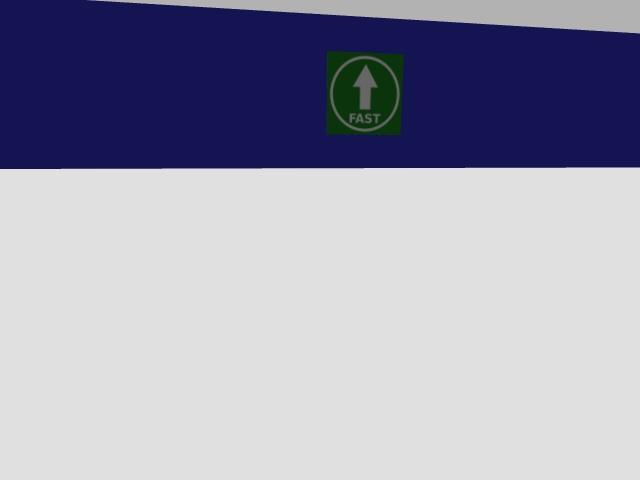fast: (327, 53, 403, 134)
